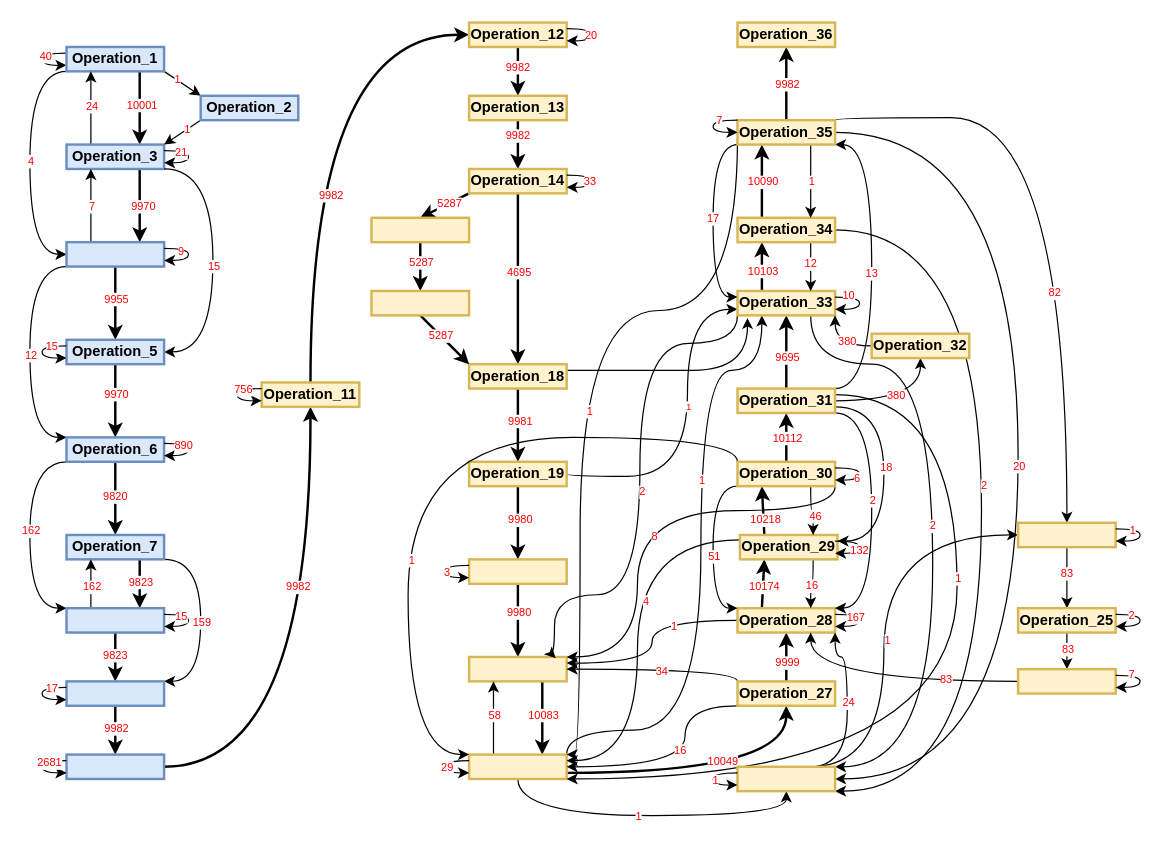
The diagram is 1161 pixels wide and 843 high, and some of its shapes have lost their labels. The box of each missing label's shape, as (x1, y1, x2, y2) in pixels:
Operation_10: (65, 753, 165, 780)
Operation_16: (370, 216, 470, 243)
Operation_17: (370, 289, 470, 316)
Operation_20: (467, 558, 567, 584)
Operation_21: (467, 655, 567, 682)
Operation_22: (467, 753, 567, 780)
Operation_23: (736, 765, 836, 792)
Operation_24: (1016, 521, 1116, 548)
Operation_26: (1016, 667, 1116, 694)
Operation_4: (65, 240, 165, 267)
Operation_8: (65, 606, 165, 633)
Operation_9: (65, 680, 165, 706)
